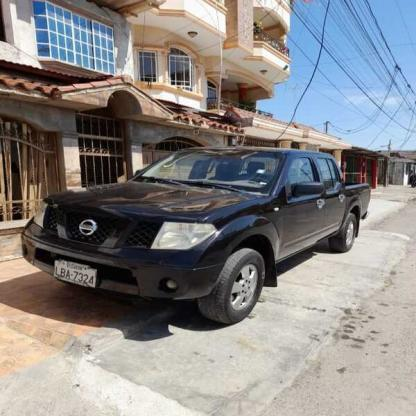Placa: (50, 254, 102, 293)
